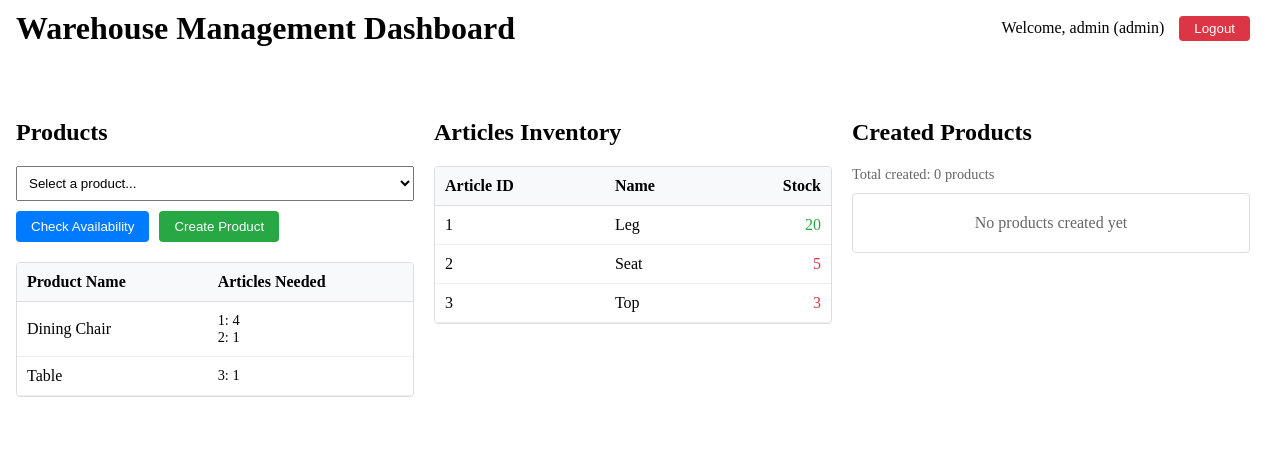
Scenario: Dashboard Component › checks product availability successfully
Select "Dining Chair" in the dropdown at (215, 183), box left=16, top=166, right=414, bottom=201
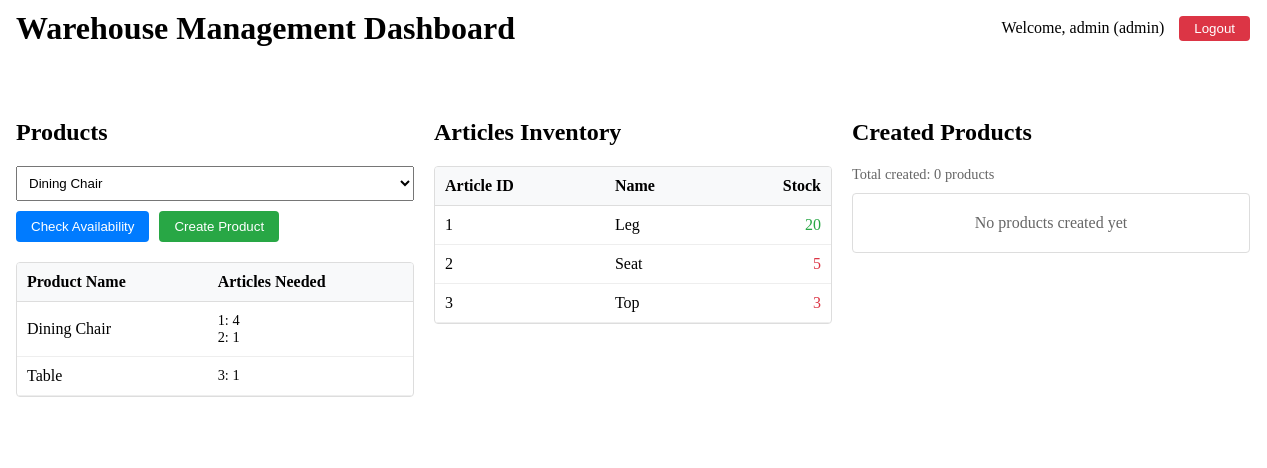
Click the button "Check Availability" at (83, 226), box left=16, top=211, right=150, bottom=242
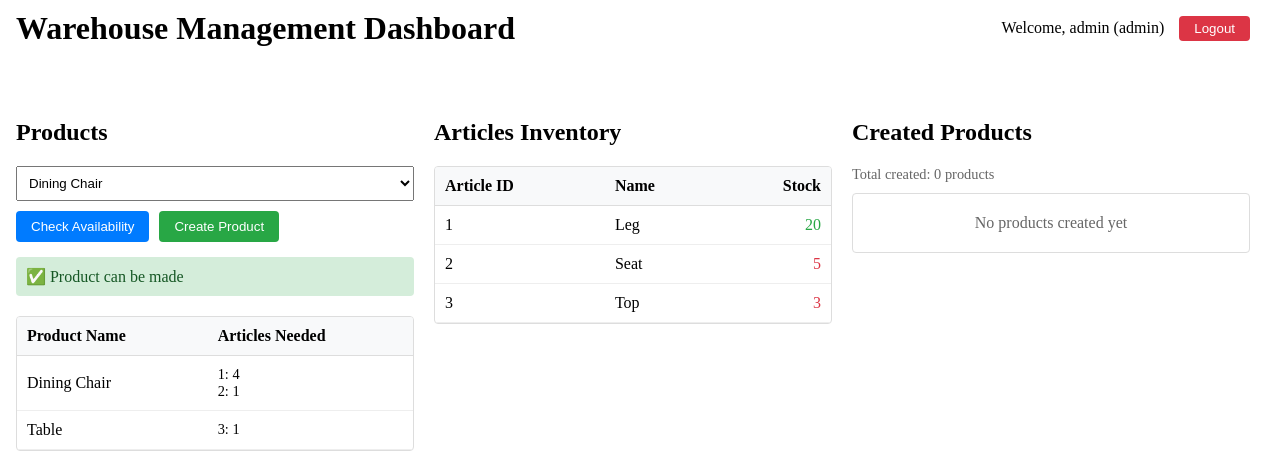
Now the text "✅ Product can be made" is shown, box left=16, top=257, right=414, bottom=296
